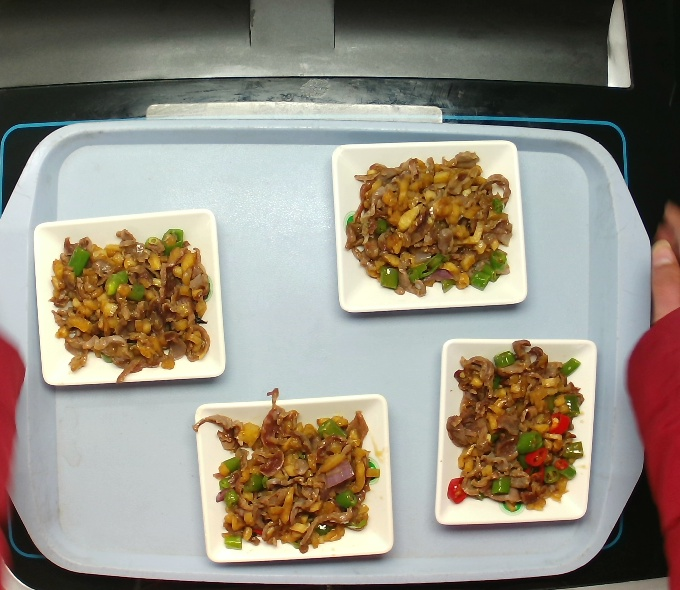wcq-ZhaCaiChaoJiZhen: (192, 375, 401, 568), (439, 332, 595, 529), (45, 214, 217, 385), (339, 145, 517, 300)
